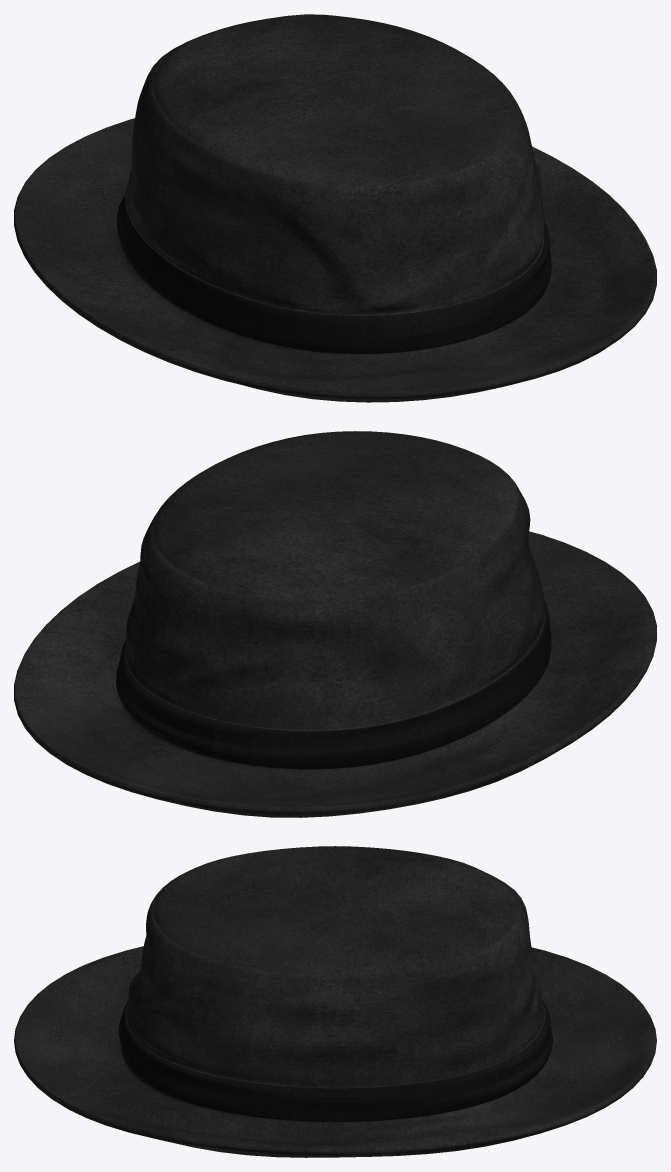
3 views of the same model, one above another, from view 1: azimuth 30°, elevation 25°; view 2: azimuth 150°, elevation 25°; view 3: azimuth 270°, elevation 25° (orthographic). The views are drawn at different scales.
Parts seen in each view (by area): view 1: stylish_hat; view 2: stylish_hat; view 3: stylish_hat.
Boxes of the visible parts, x1,y1,x2,y2 form: stylish_hat: (14,14,656,402); stylish_hat: (14,431,656,817); stylish_hat: (14,846,656,1157).
Bounding box in the file's own units: 0.2845 × 0.1009 × 0.3454.
4 materials, 4 textured.
